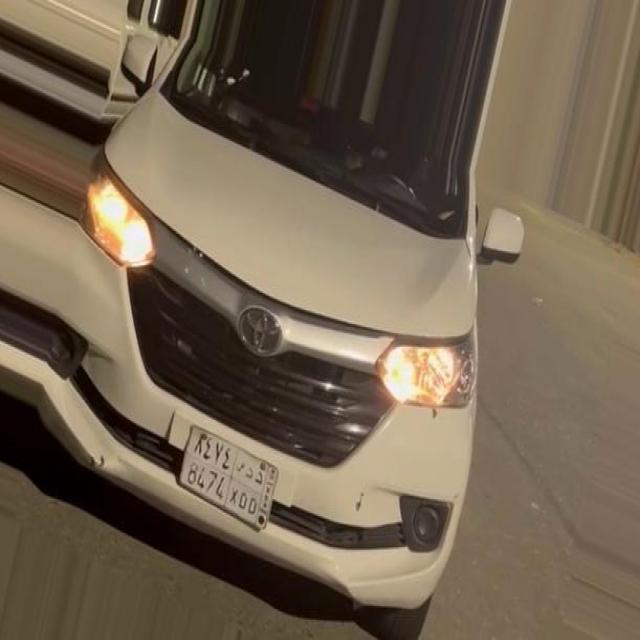Car-plate: (165, 413, 289, 553)
